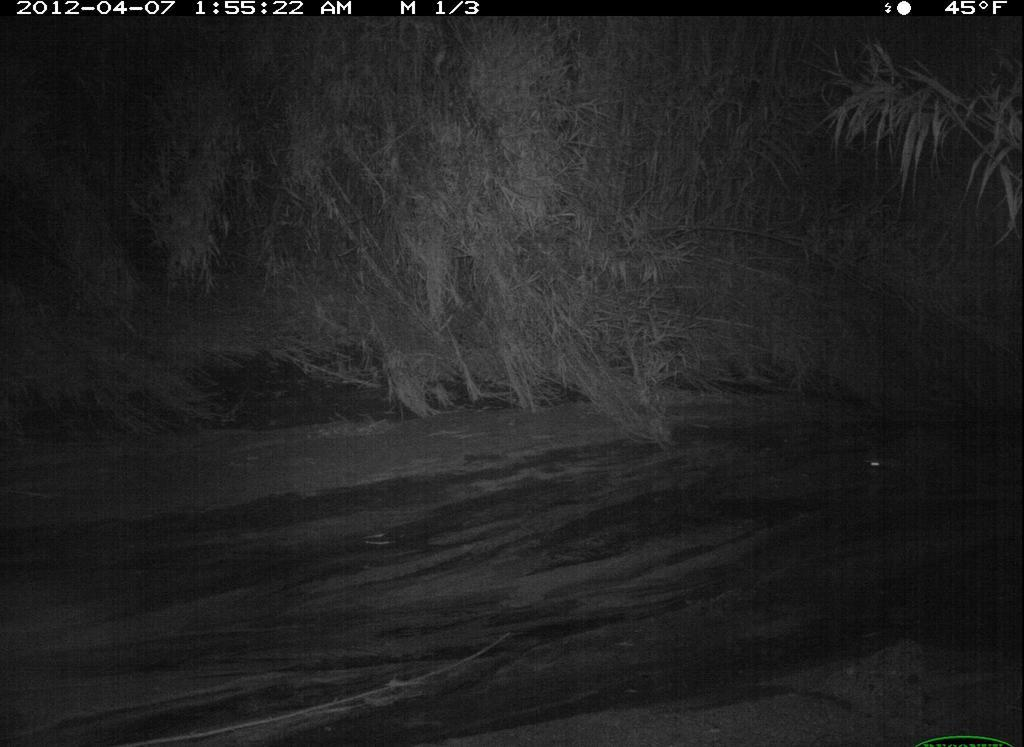raccoon: (818, 411, 975, 530)
